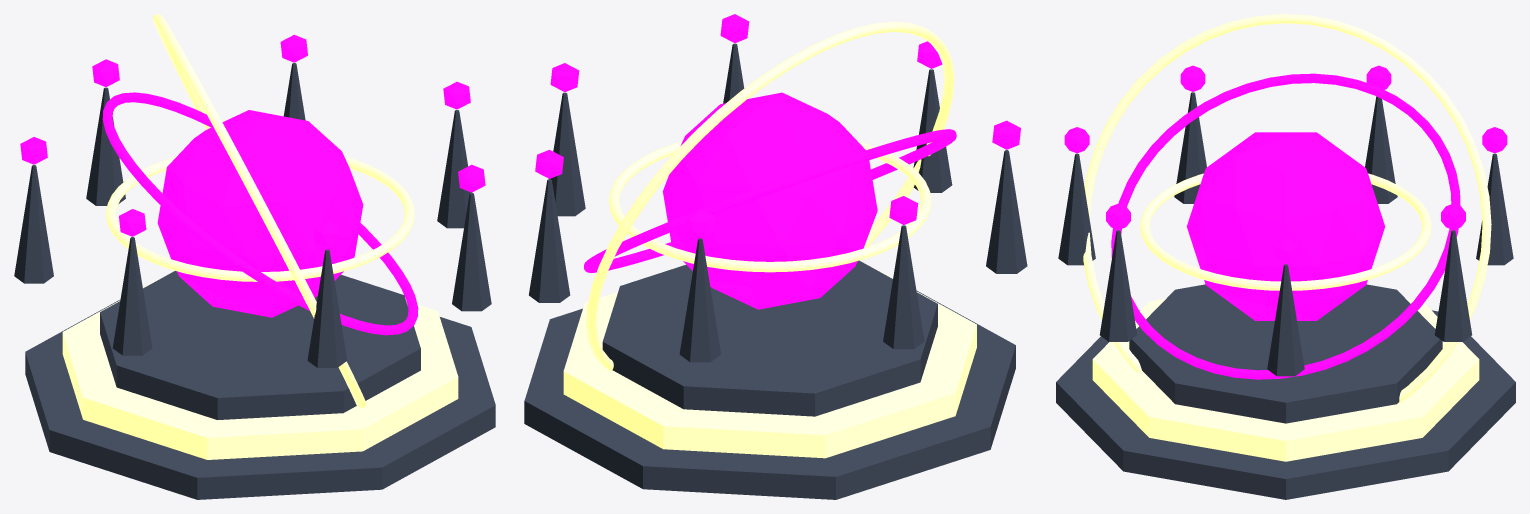
The model's file is gpu-blender-v16.glb.
3 views of the same model, side by side, from view 1: azimuth 30°, elevation 25°; view 2: azimuth 150°, elevation 25°; view 3: azimuth 270°, elevation 25° (orthographic). The views are drawn at different scales.
Parts seen in each view (by area): view 1: Cylinder.002, SovereignCore_city-desk, Cylinder, Cylinder.001, Torus.001, Torus, Torus.002, Cone.006, Cone.003, Cone.004, Cone.005, Cone (+9 smaller); view 2: Cylinder.002, SovereignCore_city-desk, Cylinder, Cylinder.001, Torus.002, Torus.001, Torus, Cone.003, Cone.002, Cone.004, Cone.001, Cone (+8 smaller); view 3: SovereignCore_city-desk, Cylinder.002, Cylinder, Cylinder.001, Torus.002, Torus.001, Torus, Cone, Cone.001, Cone.006, Cone.005, Cone.002 (+8 smaller).
Part boxes in pixels (x1,y1,x2,y2): Cylinder.002: [100, 271, 420, 419]; SovereignCore_city-desk: [157, 110, 363, 317]; Cylinder: [25, 299, 495, 499]; Cylinder.001: [62, 279, 458, 459]; Torus.001: [102, 92, 418, 335]; Torus: [106, 156, 414, 281]; Torus.002: [153, 14, 366, 407]; Cone.006: [452, 193, 491, 311]; Cone.003: [14, 165, 53, 283]; Cone.004: [112, 237, 152, 355]; Cone.005: [307, 249, 347, 367]; Cone: [437, 110, 471, 228]; Cylinder.002: [602, 260, 937, 416]; SovereignCore_city-desk: [663, 92, 877, 309]; Cylinder: [524, 290, 1015, 499]; Cylinder.001: [563, 269, 976, 458]; Torus.002: [586, 21, 954, 371]; Torus.001: [584, 129, 956, 272]; Torus: [609, 141, 931, 272]; Cone.003: [883, 225, 924, 349]; Cone.002: [679, 238, 720, 362]; Cone.004: [986, 150, 1027, 273]; Cone.001: [529, 179, 570, 302]; Cone: [549, 92, 585, 216]; SovereignCore_city-desk: [1186, 132, 1385, 320]; Cylinder.002: [1129, 284, 1442, 423]; Cylinder: [1056, 310, 1515, 499]; Cylinder.001: [1092, 298, 1479, 461]; Torus.002: [1083, 14, 1491, 403]; Torus.001: [1111, 73, 1460, 379]; Torus: [1140, 173, 1431, 290]; Cone: [1267, 264, 1304, 376]; Cone.001: [1434, 230, 1472, 341]; Cone.006: [1099, 230, 1137, 341]; Cone.005: [1058, 153, 1095, 265]; Cone.002: [1476, 153, 1513, 265].
Bounding box in the file's own units: 4.41 × 3.72 × 4.4.
